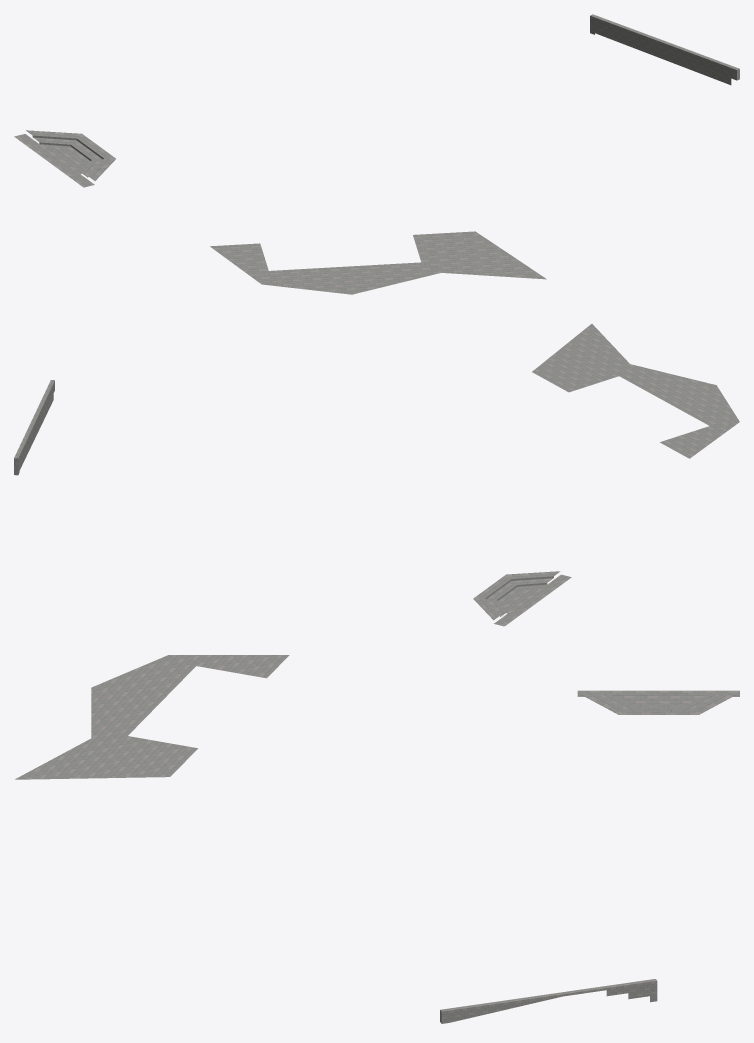
Rendered from kd_stage_136282_3_27_bounded.glb.
3 renders of one model, top to bottom at view 1: azimuth 30°, elevation 25°; view 2: azimuth 150°, elevation 25°; view 3: azimuth 270°, elevation 25°, orthographic. The views are drawn at different scales.
Visible parts, largest first — view 1: kd_stage_136282_3_27_bounded; view 2: kd_stage_136282_3_27_bounded; view 3: kd_stage_136282_3_27_bounded.
Part boxes in pixels (x1,y1,x2,y2): kd_stage_136282_3_27_bounded: [14, 14, 739, 294]; kd_stage_136282_3_27_bounded: [14, 324, 739, 626]; kd_stage_136282_3_27_bounded: [15, 655, 739, 1023].
Size of the model in its own units: 17.93 by 0.9508 by 16.2.
1 material, 1 textured.
